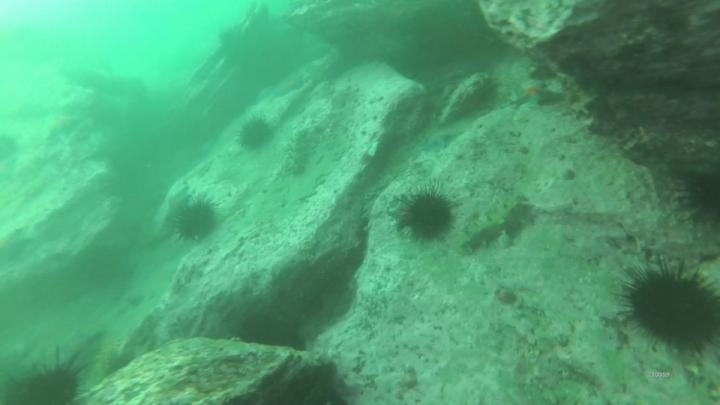echinus: (633, 272, 720, 350), (404, 193, 450, 241), (33, 368, 79, 405), (176, 204, 218, 241), (239, 118, 272, 149)
holothurian: (463, 196, 529, 255), (286, 131, 310, 175)
starfish: (514, 86, 564, 109), (423, 130, 458, 152)
